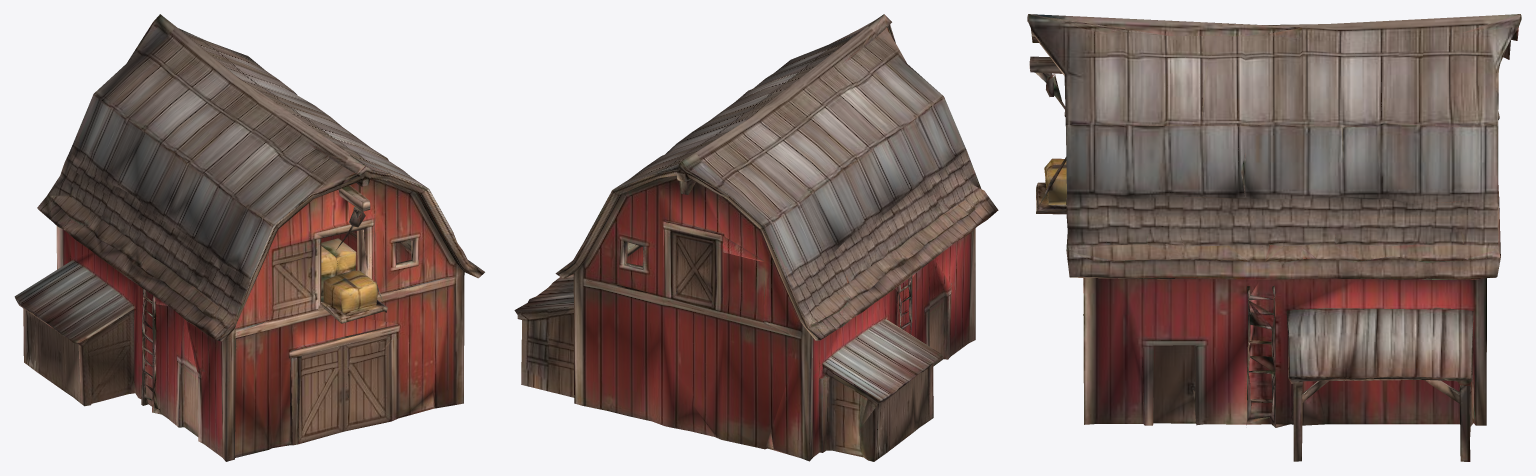
File: barn.glb
3 renders of one model, left to right at view 1: azimuth 30°, elevation 25°; view 2: azimuth 150°, elevation 25°; view 3: azimuth 270°, elevation 25°, orthographic. The views are drawn at different scales.
Visible parts, largest first — view 1: Mesh_0; view 2: Mesh_0; view 3: Mesh_0.
Boxes of the visible parts, x1,y1,x2,y2 form: Mesh_0: (14,14,484,461); Mesh_0: (514,14,998,461); Mesh_0: (1027,14,1521,461).
Size of the model in its own units: 1.9 by 1.41 by 1.85.
1 material, 1 textured.
